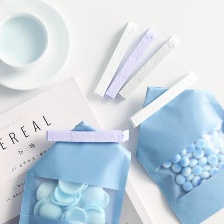snack: (128, 81, 224, 224), (12, 115, 136, 224)
